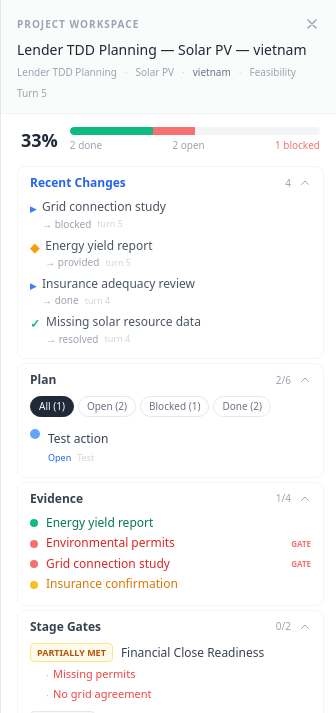
Test: ProjectWorkspace — full plan view › shows empty state when filter has no items
This screenshot has width=336, height=713.
Click the button with test id "plan-filter-done" at (242,407), box [213,396,271,417]
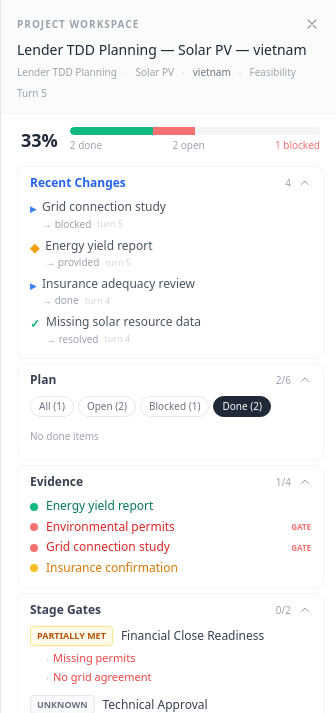
expect the text "No done items" is shown: met, box [30,429,99,443]
